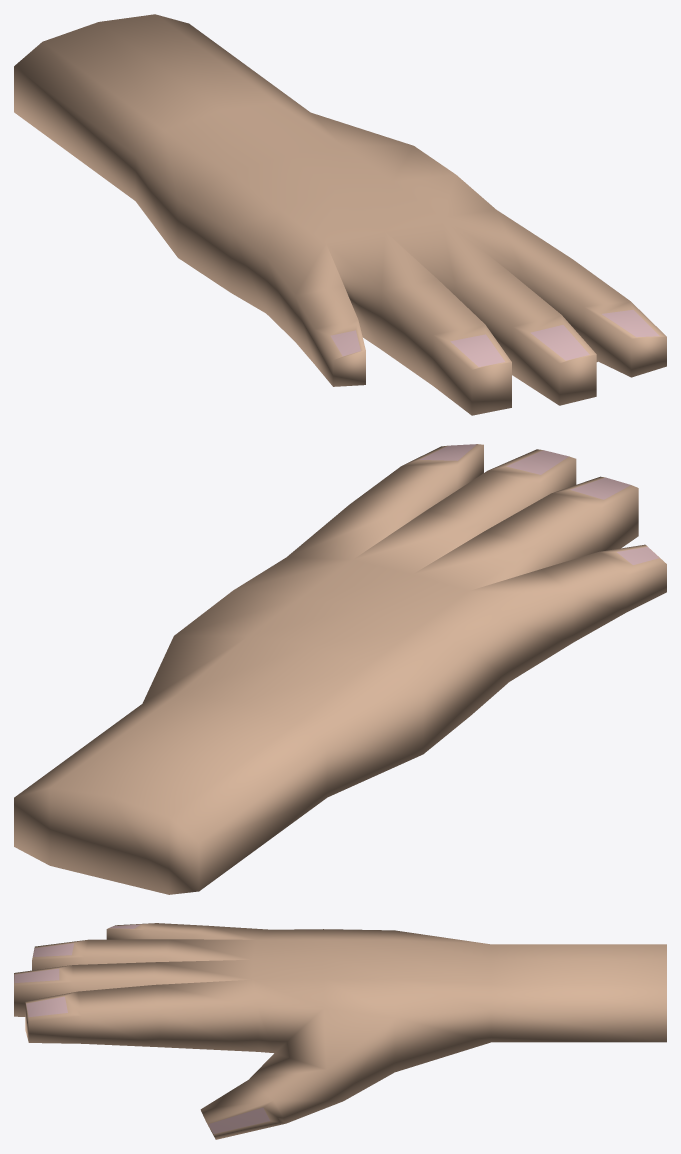
Rendered from right hand.fbx.
3 views of the same model, one above another, from view 1: azimuth 30°, elevation 25°; view 2: azimuth 150°, elevation 25°; view 3: azimuth 270°, elevation 25° (orthographic). The views are drawn at different scales.
Visible parts, largest first — view 1: Cube.001; view 2: Cube.001; view 3: Cube.001.
Part boxes in pixels (x1,y1,x2,y2): Cube.001: (14, 14, 666, 415); Cube.001: (14, 444, 666, 894); Cube.001: (14, 923, 666, 1139).
Bounding box in the file's own units: 398 × 182 × 916.
